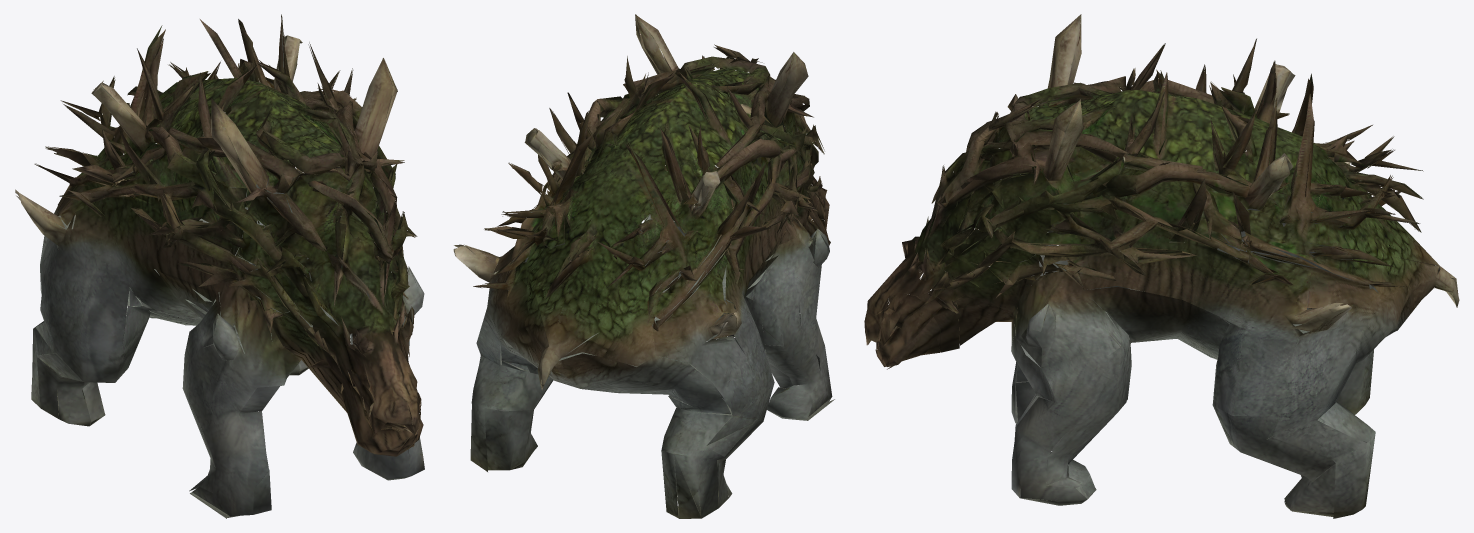
The model's file is mesh_briarback_a.glb.
3 renders of one model, left to right at view 1: azimuth 30°, elevation 25°; view 2: azimuth 150°, elevation 25°; view 3: azimuth 270°, elevation 25°, orthographic. The views are drawn at different scales.
Parts seen in each view (by area): view 1: mesh_briarback_a__Mesh_0; view 2: mesh_briarback_a__Mesh_0; view 3: mesh_briarback_a__Mesh_0.
Part boxes in pixels (x1,y1,x2,y2): mesh_briarback_a__Mesh_0: (15,14,424,518); mesh_briarback_a__Mesh_0: (453,14,834,518); mesh_briarback_a__Mesh_0: (864,14,1459,518).
Bounding box in the file's own units: 4 × 5.07 × 6.8.
1 material, 1 textured.
